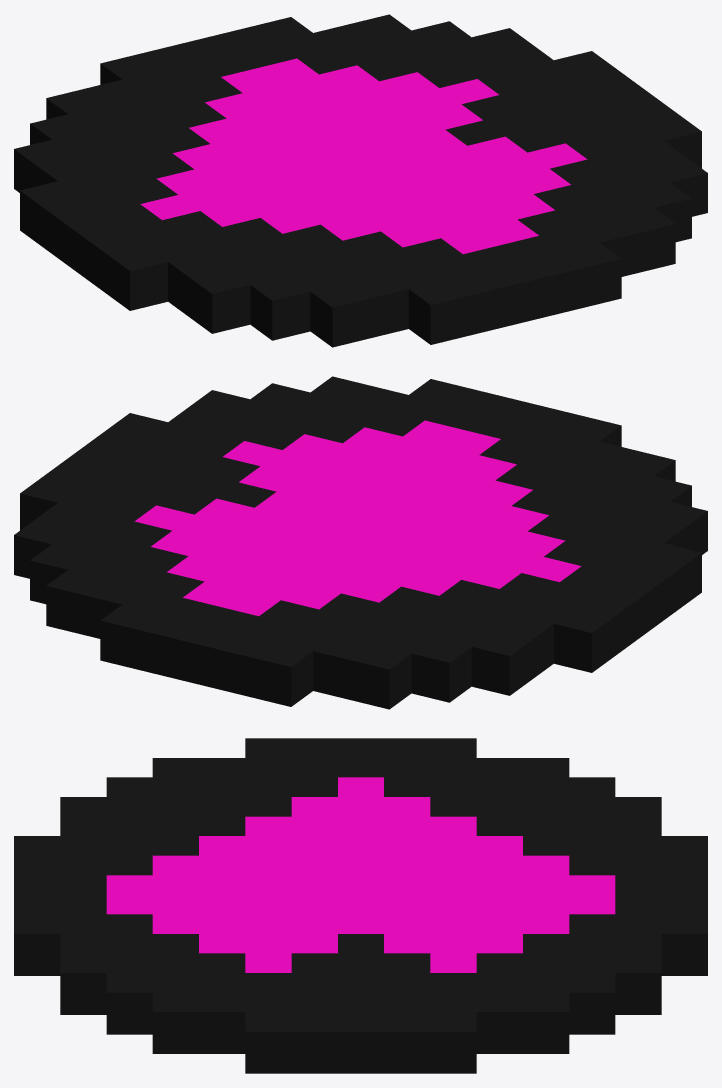
The model's file is HeartItem.obj.
The picture shows the model from 3 angles, top to bottom: view 1: azimuth 30°, elevation 25°; view 2: azimuth 150°, elevation 25°; view 3: azimuth 270°, elevation 25°; orthographic projection. The views are drawn at different scales.
Bounding box in the file's own units: 1.5 × 0.1 × 1.5.
1 material, 1 textured.
